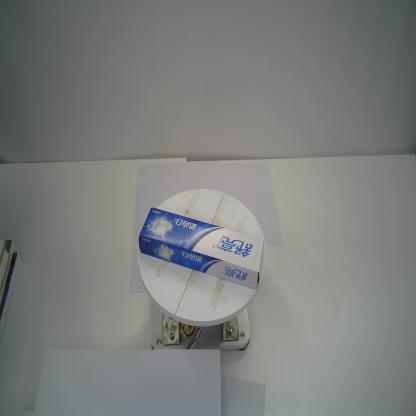Personal Hygiene: (139, 207, 265, 290)
